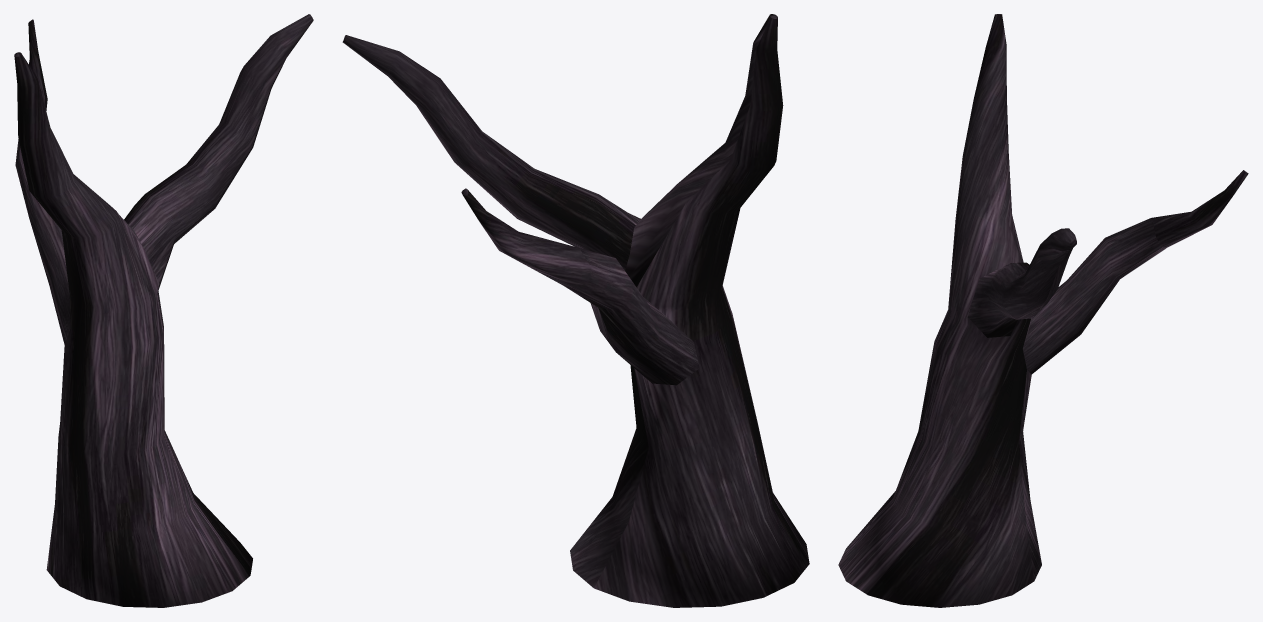
The model's file is SM_Tree_Tall.fbx.
The picture shows the model from 3 angles, left to right: view 1: azimuth 30°, elevation 25°; view 2: azimuth 150°, elevation 25°; view 3: azimuth 270°, elevation 25°; orthographic projection. The views are drawn at different scales.
Visible parts, largest first — view 1: tree_long; view 2: tree_long; view 3: tree_long.
Part boxes in pixels (x1=…): tree_long: x1=14, y1=14, x2=313, y2=607; tree_long: x1=342, y1=14, x2=809, y2=607; tree_long: x1=838, y1=14, x2=1248, y2=607.
Size of the model in its own units: 179 by 261 by 193.
